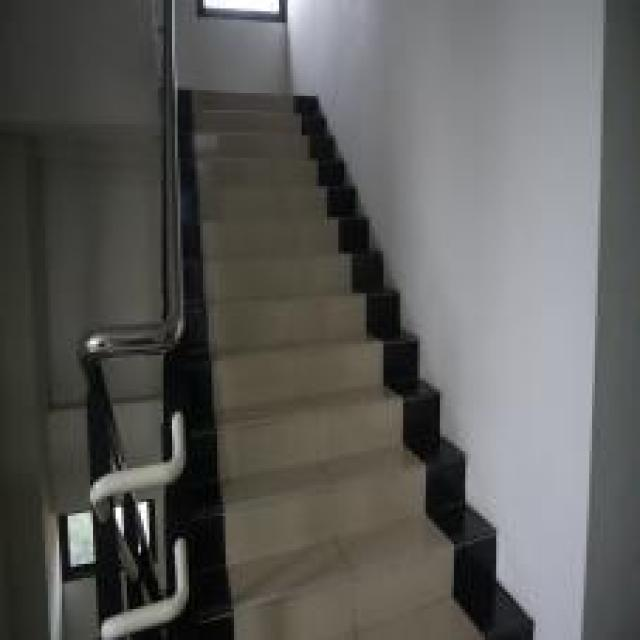upstair: (198, 80, 413, 638)
